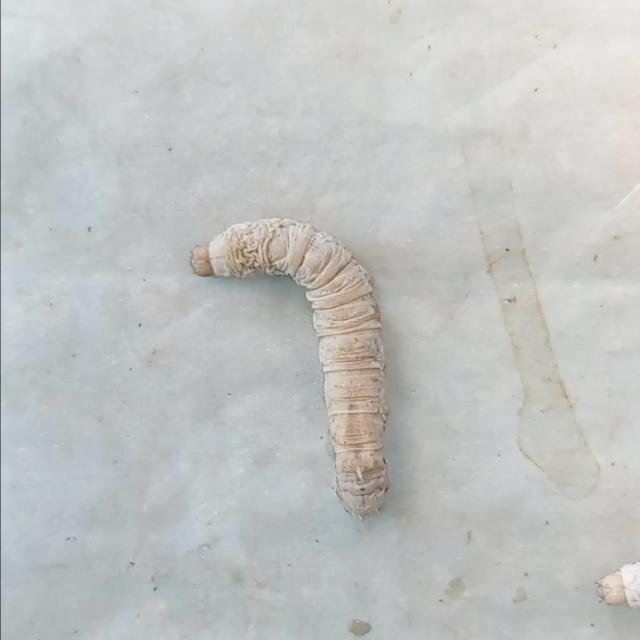Grasserie: (179, 198, 421, 550)
